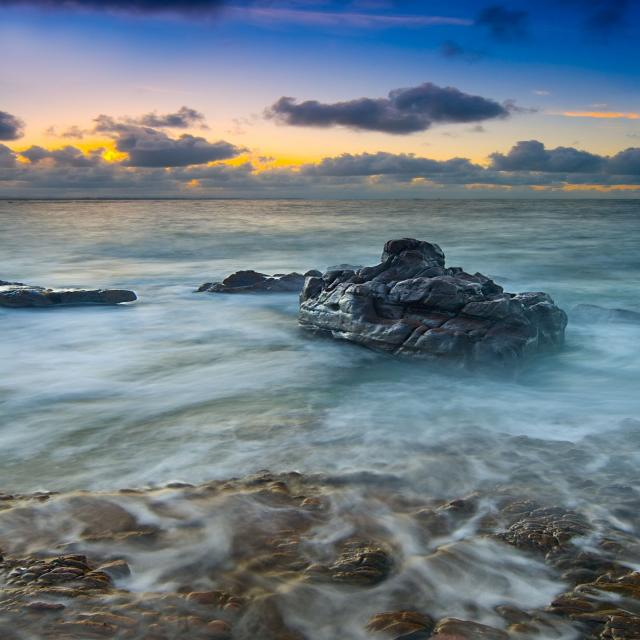reef: (300, 223, 583, 367)
